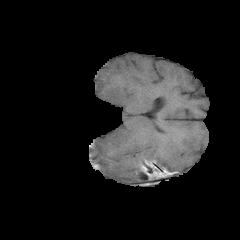glioma: (128, 132, 197, 179)
